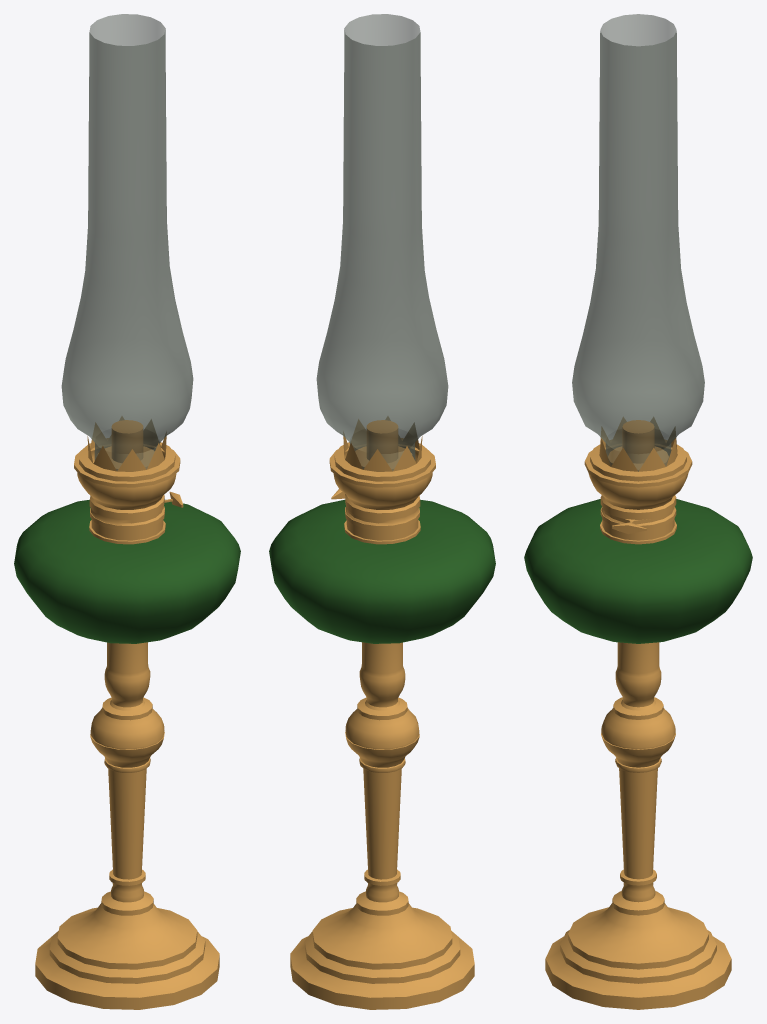
The model's file is S_OilLamp.fbx.
The picture shows the model from 3 angles, left to right: view 1: azimuth 30°, elevation 25°; view 2: azimuth 150°, elevation 25°; view 3: azimuth 270°, elevation 25°; orthographic projection.
Parts seen in each view (by area): view 1: S_OilLamp; view 2: S_OilLamp; view 3: S_OilLamp.
Part boxes in pixels (bbox=[...]): S_OilLamp: bbox=[14, 14, 240, 1009]; S_OilLamp: bbox=[269, 14, 495, 1009]; S_OilLamp: bbox=[524, 14, 752, 1009].
Bounding box in the file's own units: 12.27 × 55.64 × 12.27.
